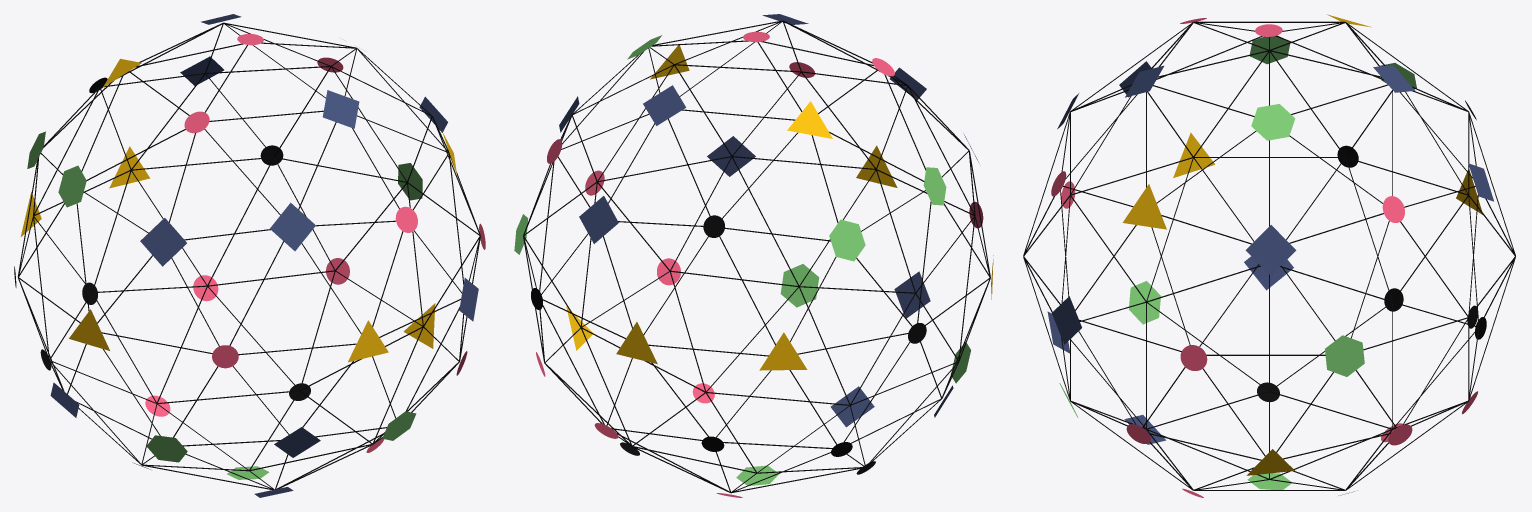
3 views of the same model, side by side, from view 1: azimuth 30°, elevation 25°; view 2: azimuth 150°, elevation 25°; view 3: azimuth 270°, elevation 25° (orthographic). The views are drawn at different scales.
Visible parts, largest first — view 1: WireIsosphere.024; view 2: WireIsosphere.024; view 3: WireIsosphere.024.
Part boxes in pixels (x1,y1,x2,y2): WireIsosphere.024: [14, 14, 485, 497]; WireIsosphere.024: [514, 14, 993, 497]; WireIsosphere.024: [1023, 14, 1515, 497].
Bounding box in the file's own units: 3.42 × 3.5 × 3.47.
